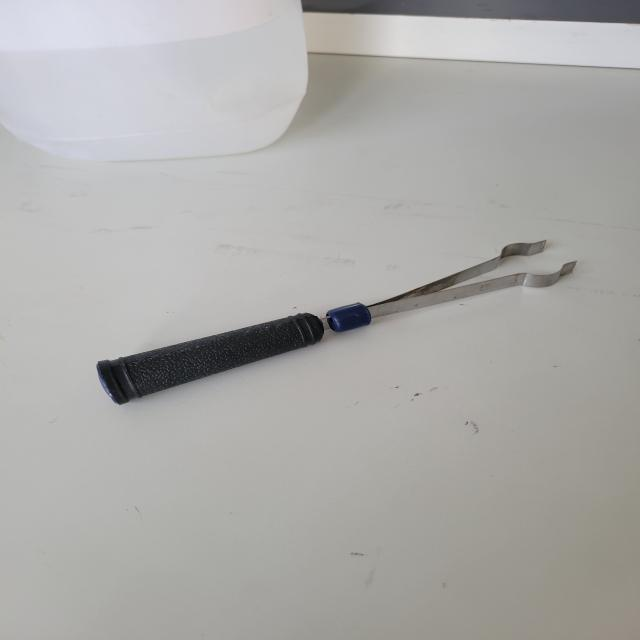TestTube_Holder: (66, 219, 590, 412)
